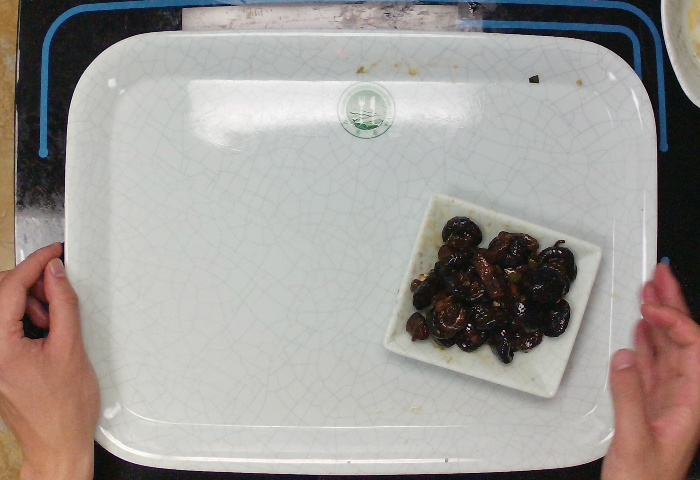WCQzf-Ru_Ci_Si_Fang_Die: (383, 189, 605, 400)
